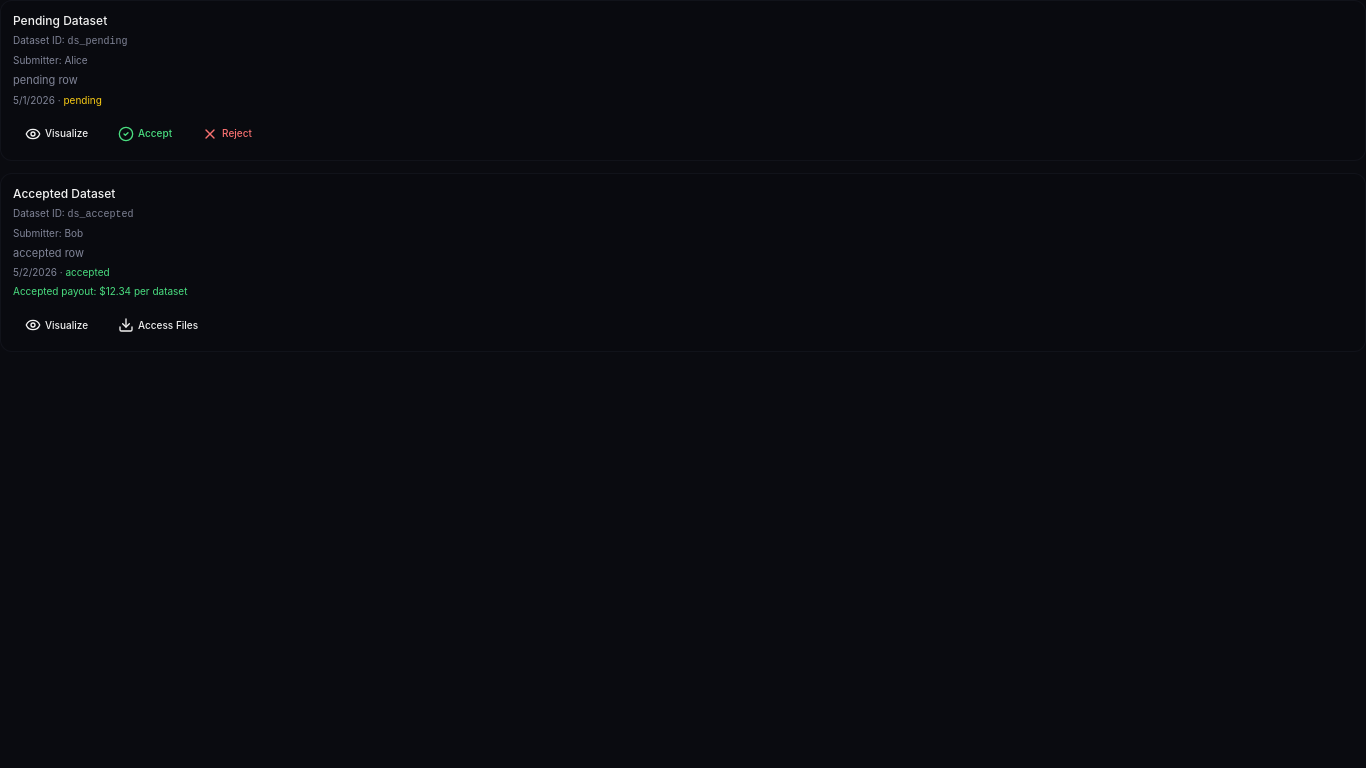
SubmissionsTab › accepted submission access files dialog handles filtered links + empty
Expected: the text "Accepted Dataset" is shown, [13,186,115,200]
Click the button "Access Files" at (158, 325), box [106,311,210,339]
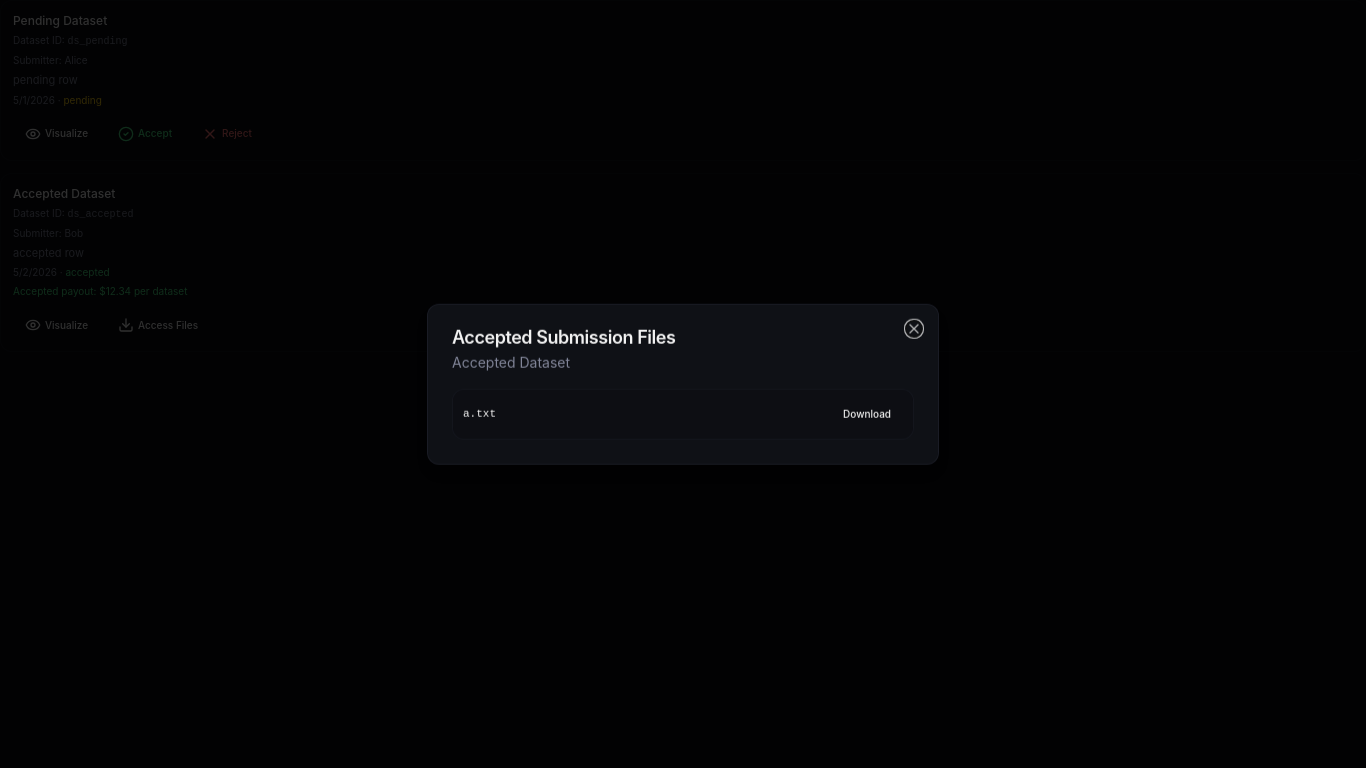
Expected: the text "a.txt" is shown, [463,406,496,422]
Click the button named "close" at (914, 329), box [906,321,922,337]
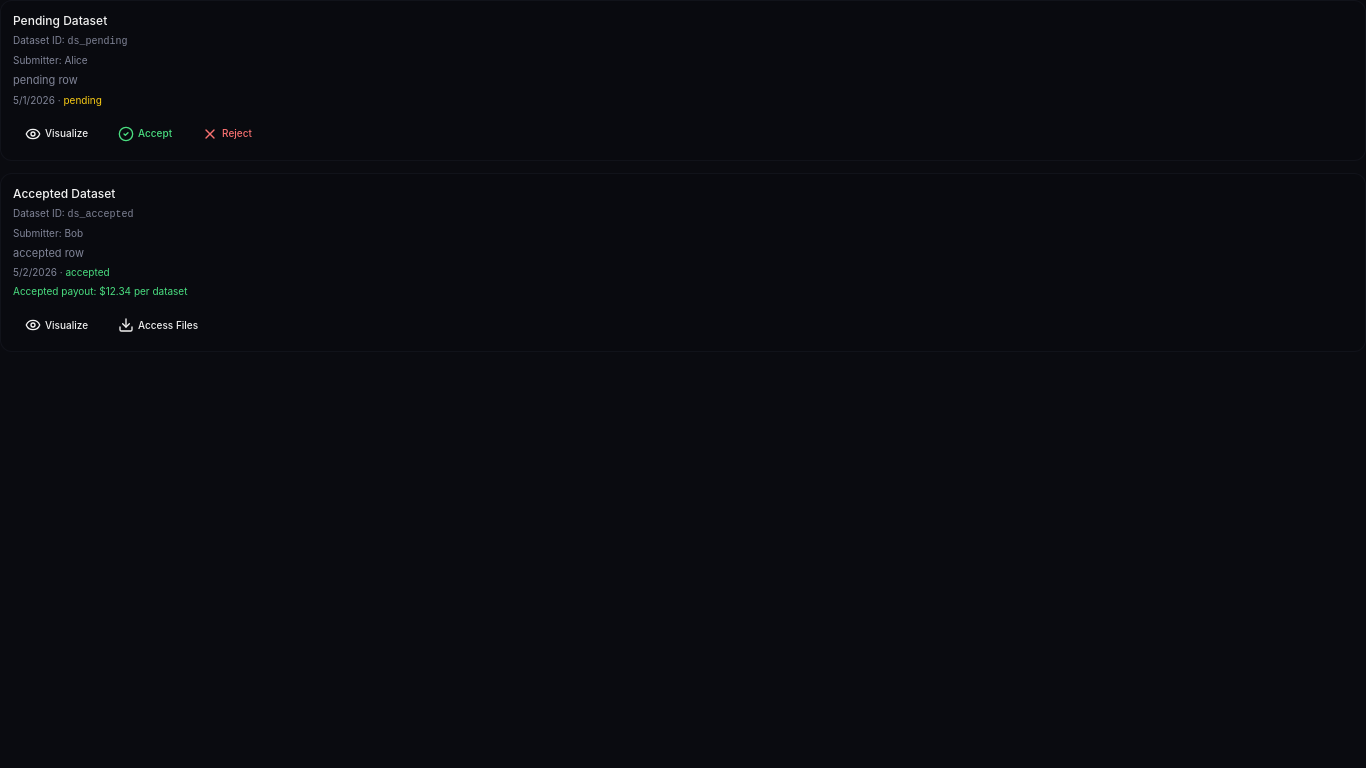
Click the button "Access Files" at (158, 325), box [106,311,210,339]
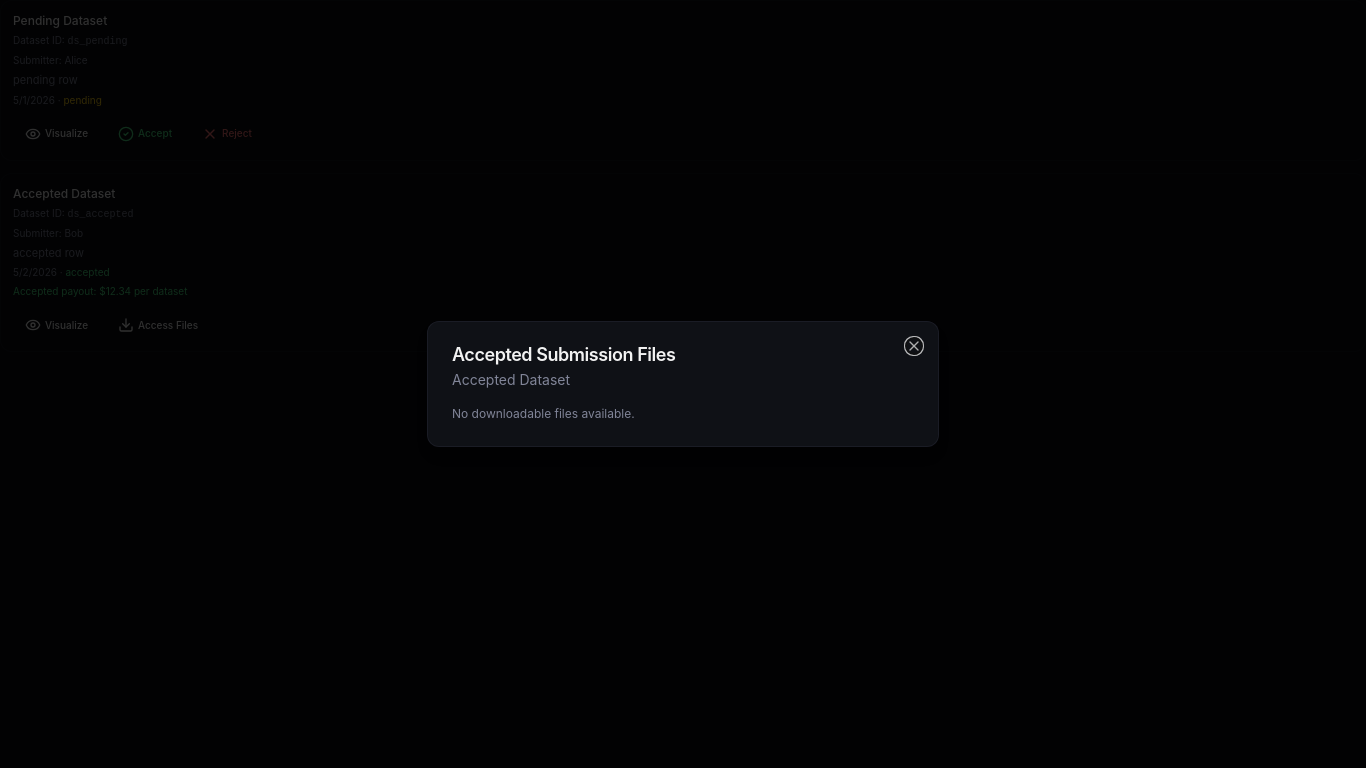
Expected: the text "No downloadable files available." is shown, [452,406,635,421]
